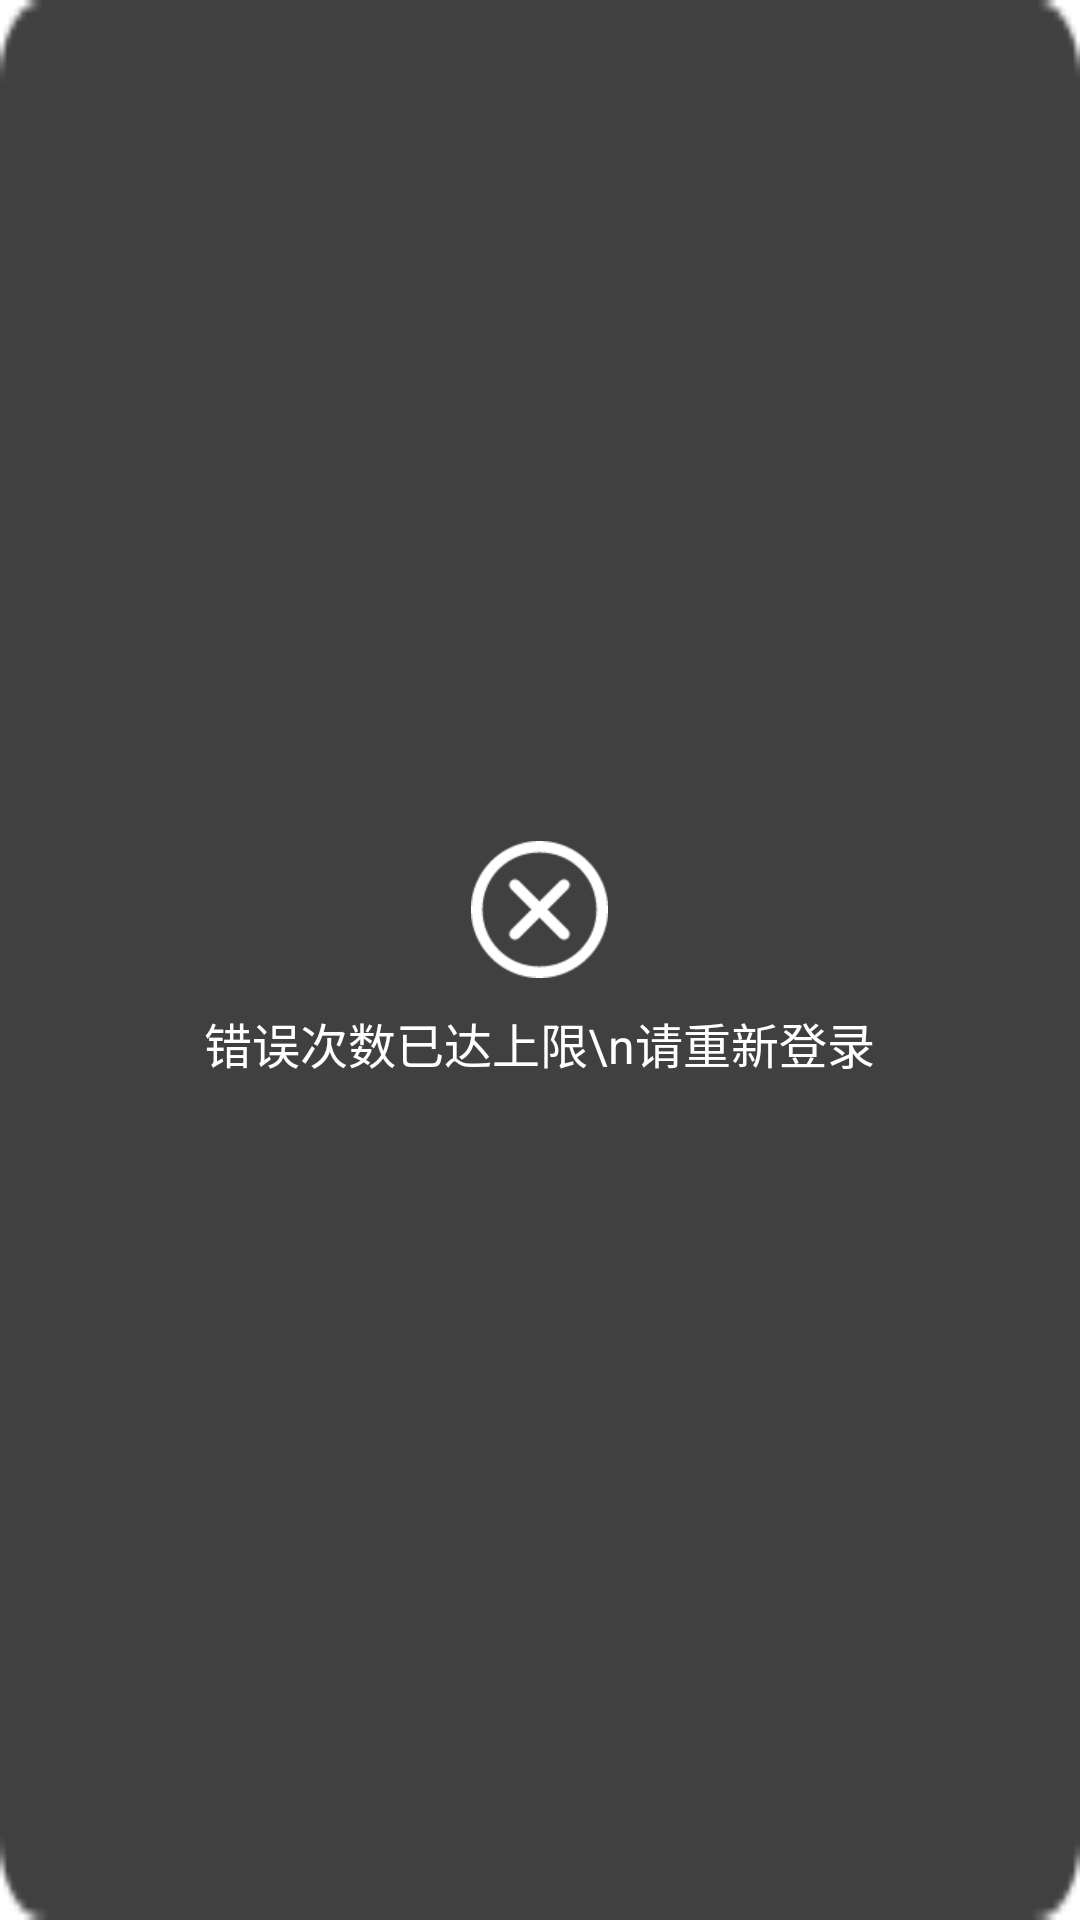

Where icons sit on this 1080px×1920px app screen, as (x1, y1, x2, y2):
toast fail: (471, 841, 608, 978)
